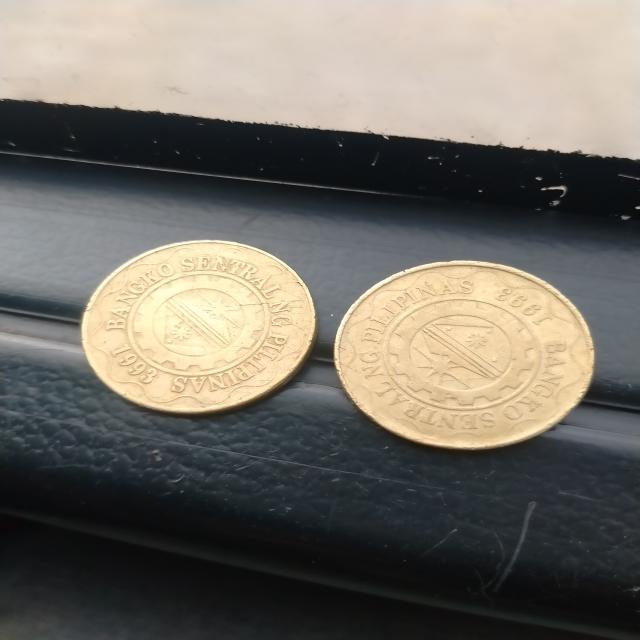5_Old_Back: (328, 255, 592, 454), (70, 237, 317, 414)
